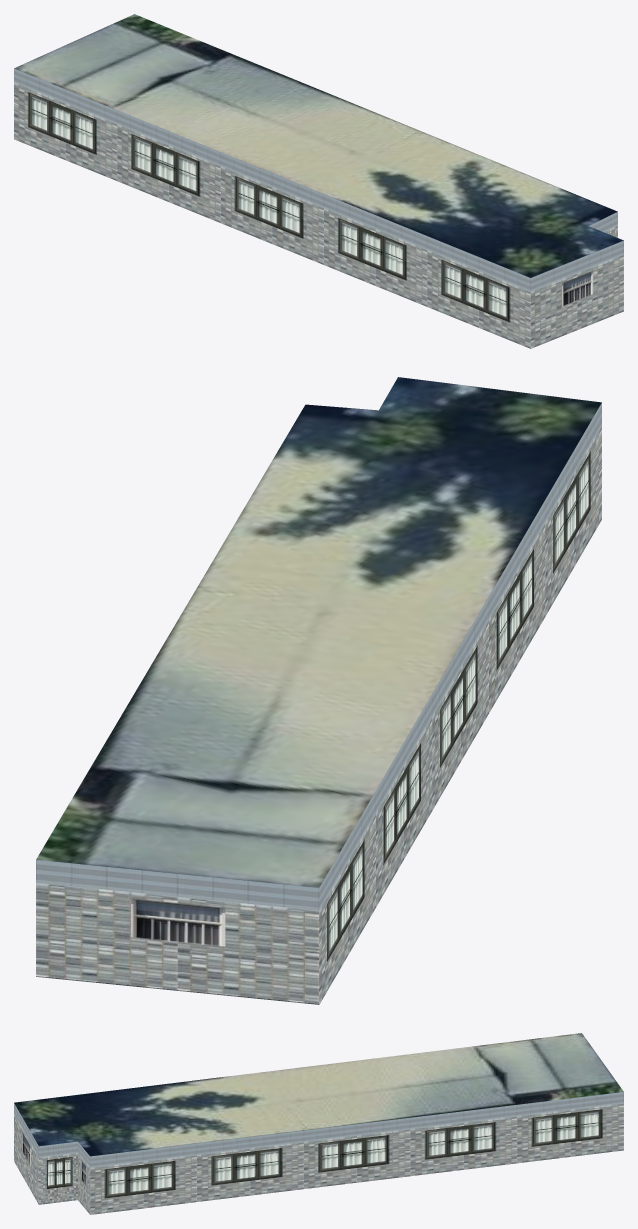
Rendered from tile_LOD8_r1_c6.glb.
3 renders of one model, top to bottom at view 1: azimuth 30°, elevation 25°; view 2: azimuth 150°, elevation 25°; view 3: azimuth 270°, elevation 25°, orthographic. The views are drawn at different scales.
Size of the model in its own units: 15.49 by 3.43 by 32.36.
Materials: 3 (3 with a texture image).
